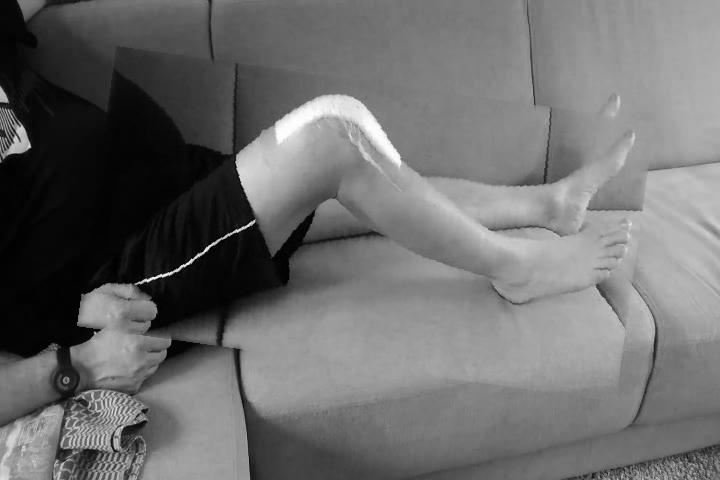lowerbody: (87, 65, 647, 384)
